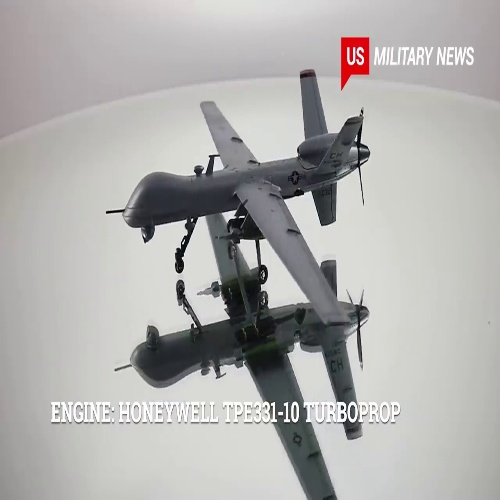uav: (110, 70, 374, 324)
